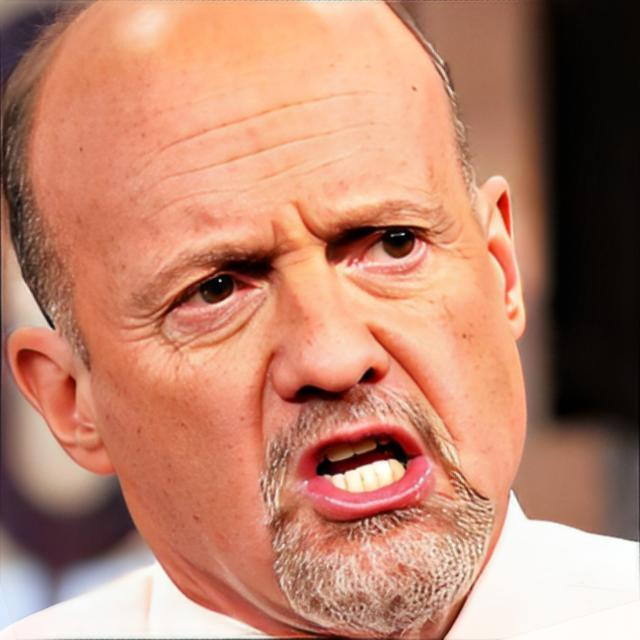anger: (88, 38, 511, 630)
